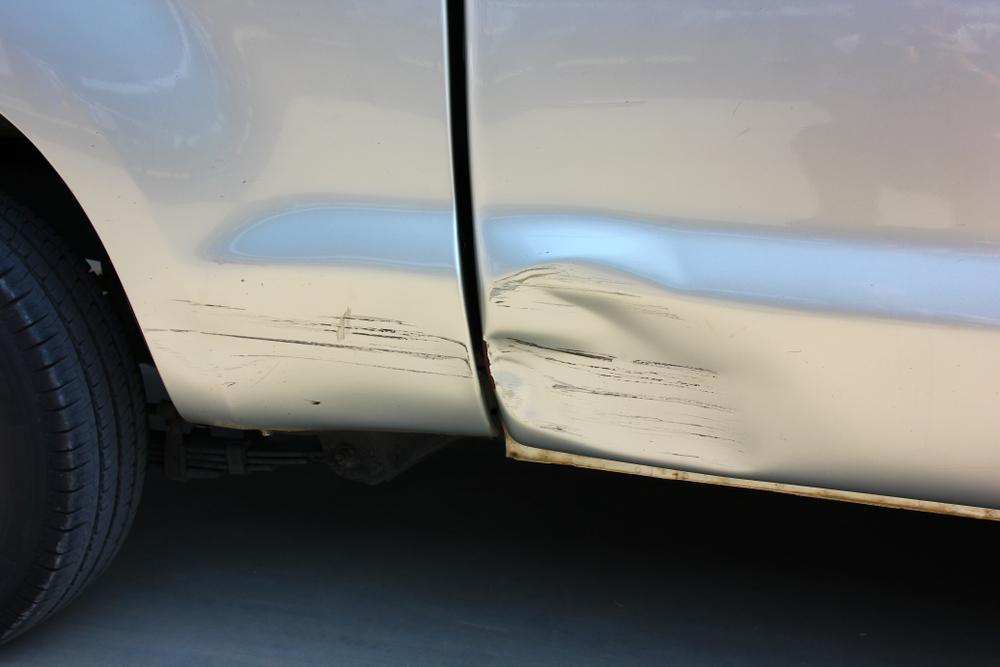dent: (486, 260, 763, 471)
scratch: (154, 301, 478, 379)
